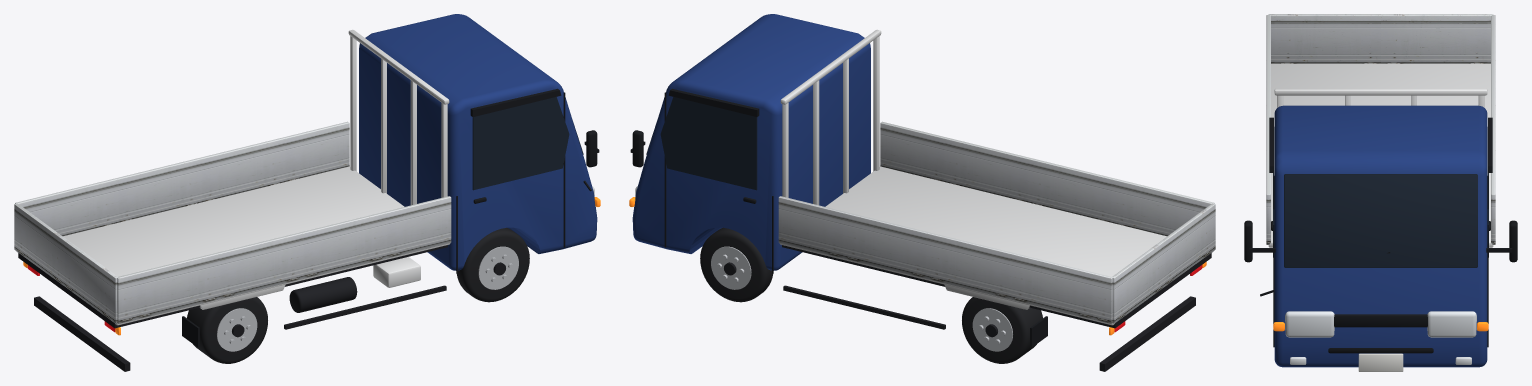
File: truck.glb
3 views of the same model, side by side, from view 1: azimuth 30°, elevation 25°; view 2: azimuth 150°, elevation 25°; view 3: azimuth 270°, elevation 25° (orthographic). The views are drawn at different scales.
Parts seen in each view (by area): view 1: truck_real, wheel_fl, wheel_rl; view 2: truck_real, wheel_fr, wheel_rr; view 3: truck_real.
Boxes of the visible parts, box(x1,y1,x2,y2) form: truck_real: box(14, 14, 600, 371); wheel_fl: box(457, 227, 529, 302); wheel_rl: box(187, 297, 267, 363); truck_real: box(629, 14, 1215, 371); wheel_fr: box(700, 227, 772, 302); wheel_rr: box(962, 297, 1042, 363); truck_real: box(1244, 14, 1517, 371).
Bounding box in the file's own units: 5.29 × 2.25 × 2.31.
Materials: 12 (1 with a texture image).
